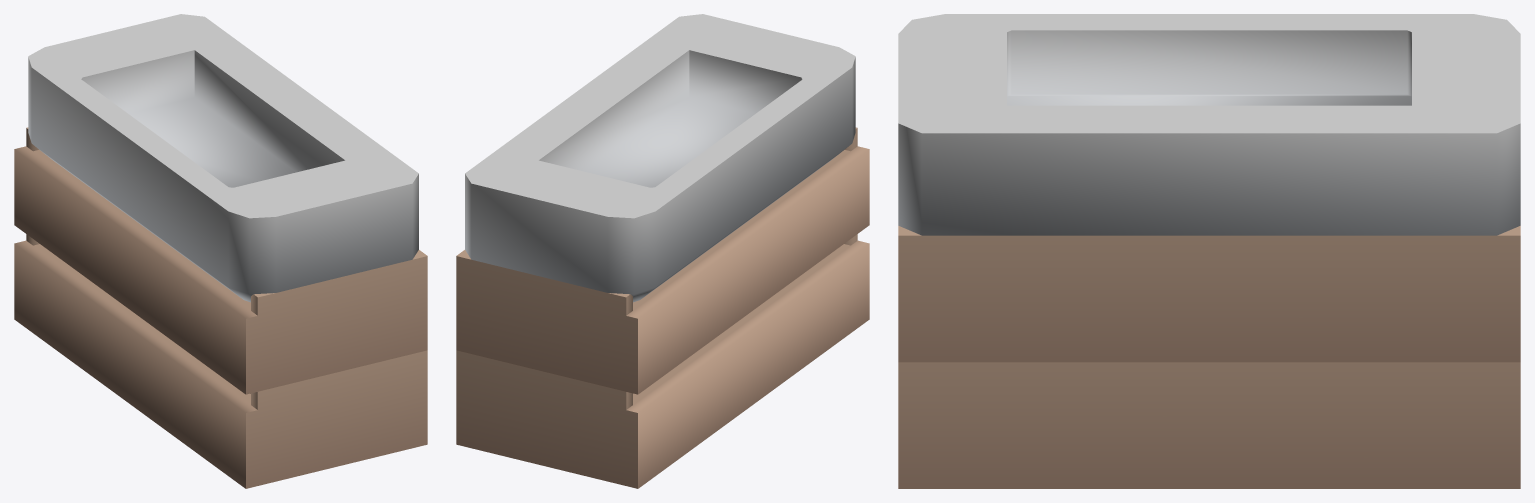
File: sink-hanging-cabinets-double (%wall).glb
3 views of the same model, side by side, from view 1: azimuth 30°, elevation 25°; view 2: azimuth 150°, elevation 25°; view 3: azimuth 270°, elevation 25° (orthographic). The views are drawn at different scales.
Visible parts, largest first — view 1: sink-hanging-cabinets-double (%wall); view 2: sink-hanging-cabinets-double (%wall); view 3: sink-hanging-cabinets-double (%wall).
Boxes of the visible parts, box(x1,y1,x2,y2) form: sink-hanging-cabinets-double (%wall): box(14, 14, 427, 488); sink-hanging-cabinets-double (%wall): box(456, 14, 869, 488); sink-hanging-cabinets-double (%wall): box(898, 14, 1520, 488).
Bounding box in the file's own units: 0.4037 × 0.5615 × 0.8905.
